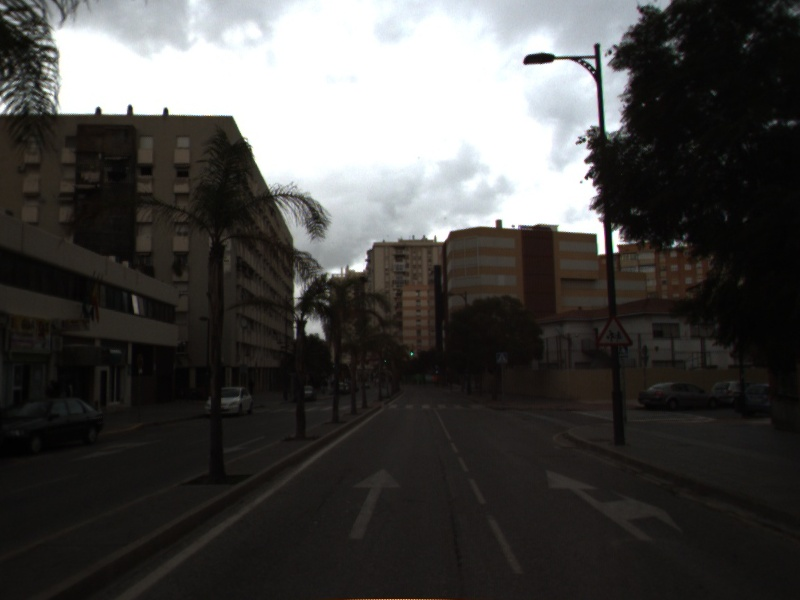STRAIGHT: (345, 465, 404, 542)
STRAIGHT_RIGHT: (544, 467, 685, 544)
